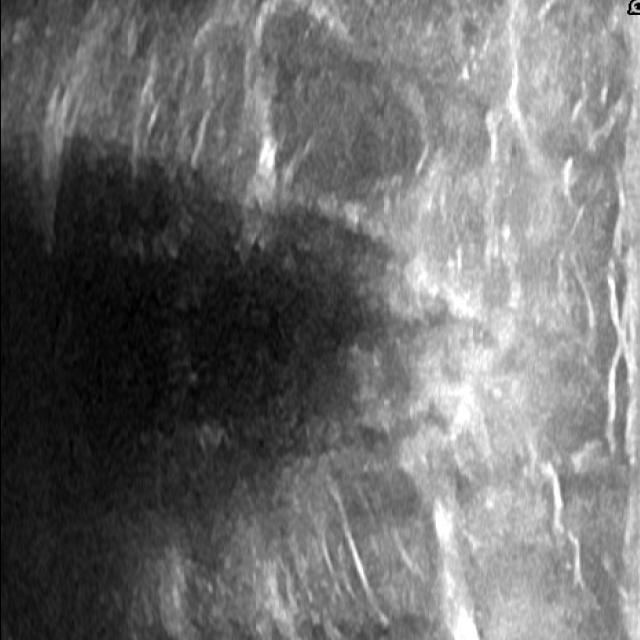Malignant: (212, 246, 414, 454)
